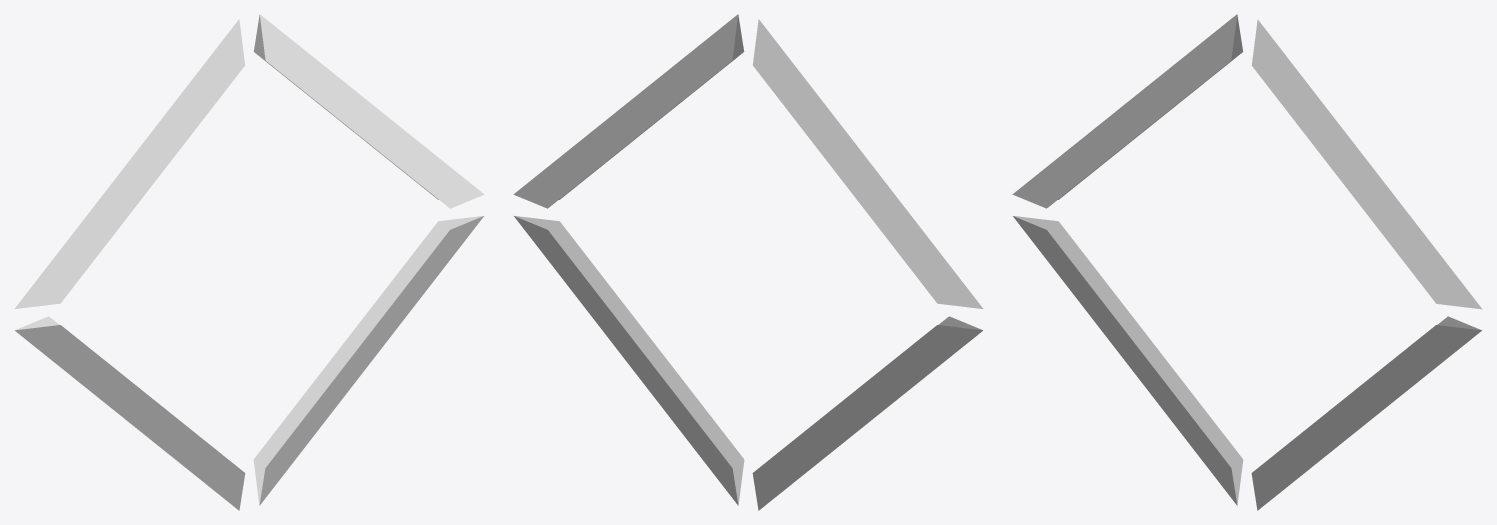
File: outside.obj
The picture shows the model from 3 angles, left to right: view 1: azimuth 30°, elevation 25°; view 2: azimuth 150°, elevation 25°; view 3: azimuth 330°, elevation 25°; orthographic projection.
Parts seen in each view (by area): view 1: outside; view 2: outside; view 3: outside.
Part boxes in pixels (x1=…): outside: x1=15, y1=14, x2=484, y2=510; outside: x1=513, y1=14, x2=982, y2=510; outside: x1=1012, y1=14, x2=1481, y2=510.
Size of the model in its own units: 4.6 by 4.6 by 0.2008.
1 material, 1 textured.
